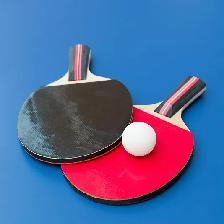WhiteBall: (121, 121, 155, 156)
